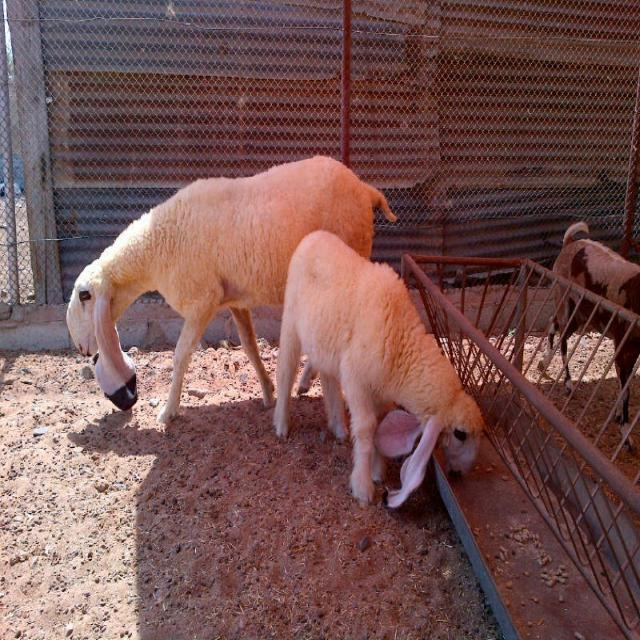sheep: (220, 236, 531, 474), (88, 148, 391, 346)
